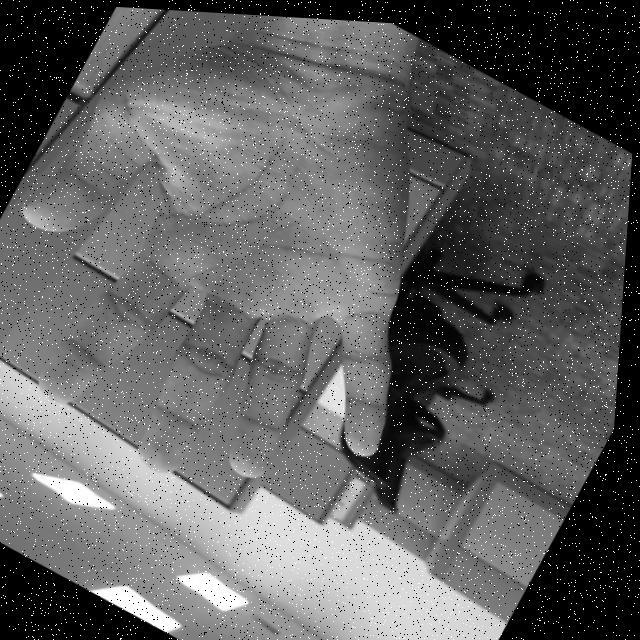no-gloves: (0, 0, 542, 564)
